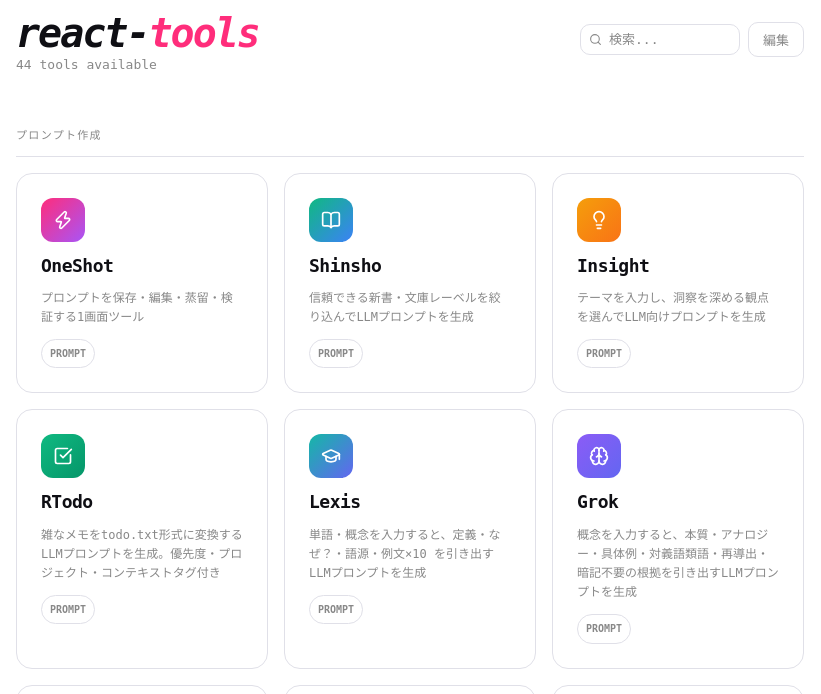
Test: Home › 検索時はグループをまたいでマッチしたツールが表示される
Type "lexis" into the search field at (660, 40), box [580,24,740,55]
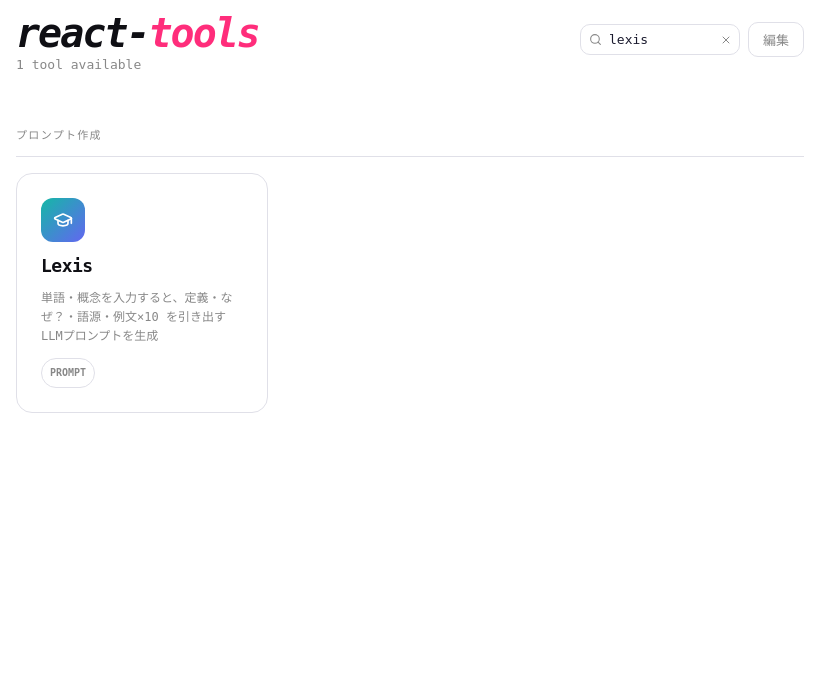
Expected: the text "Lexis" is shown, [41,255,93,276]
Now the link "OneShot" is gone
